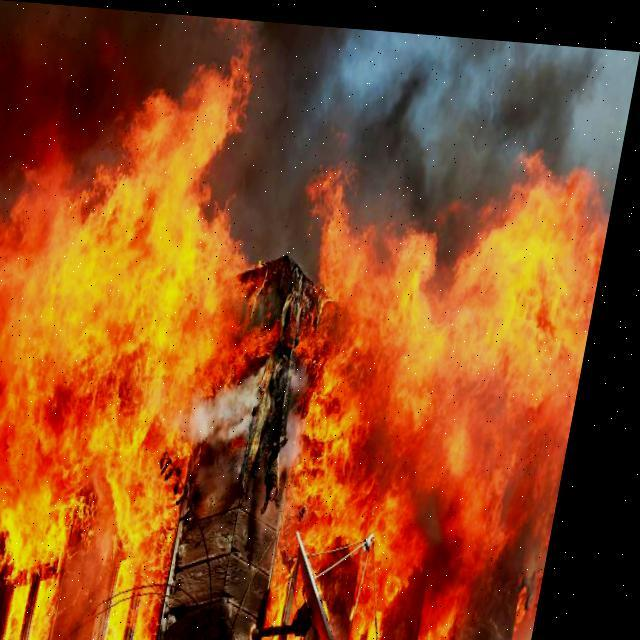Fire: (0, 21, 636, 639)
